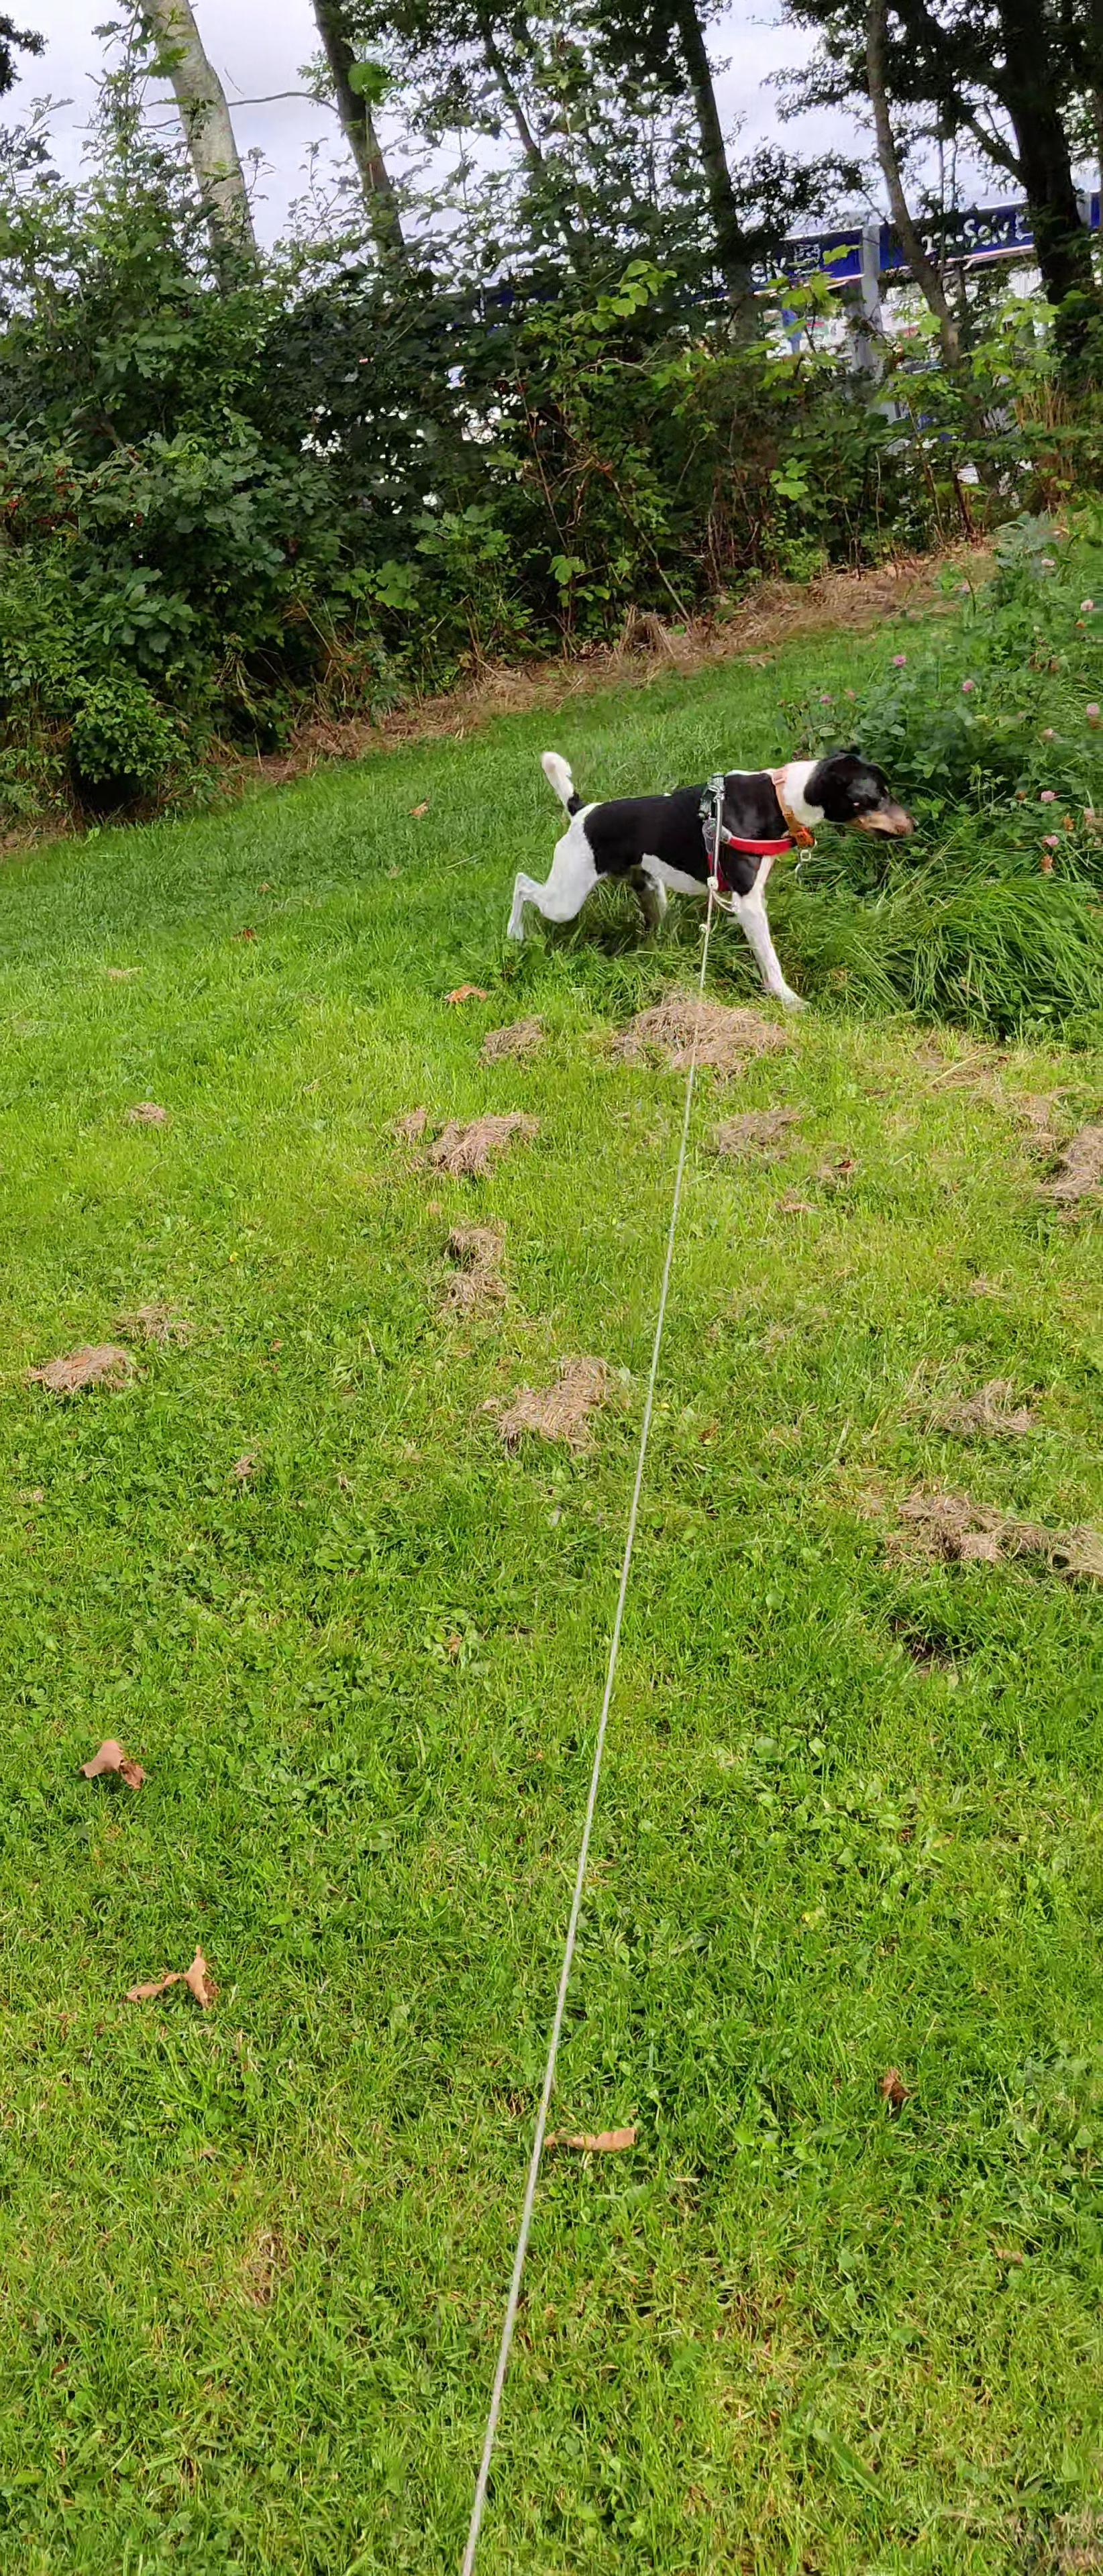Dog: (505, 746, 921, 1012)
